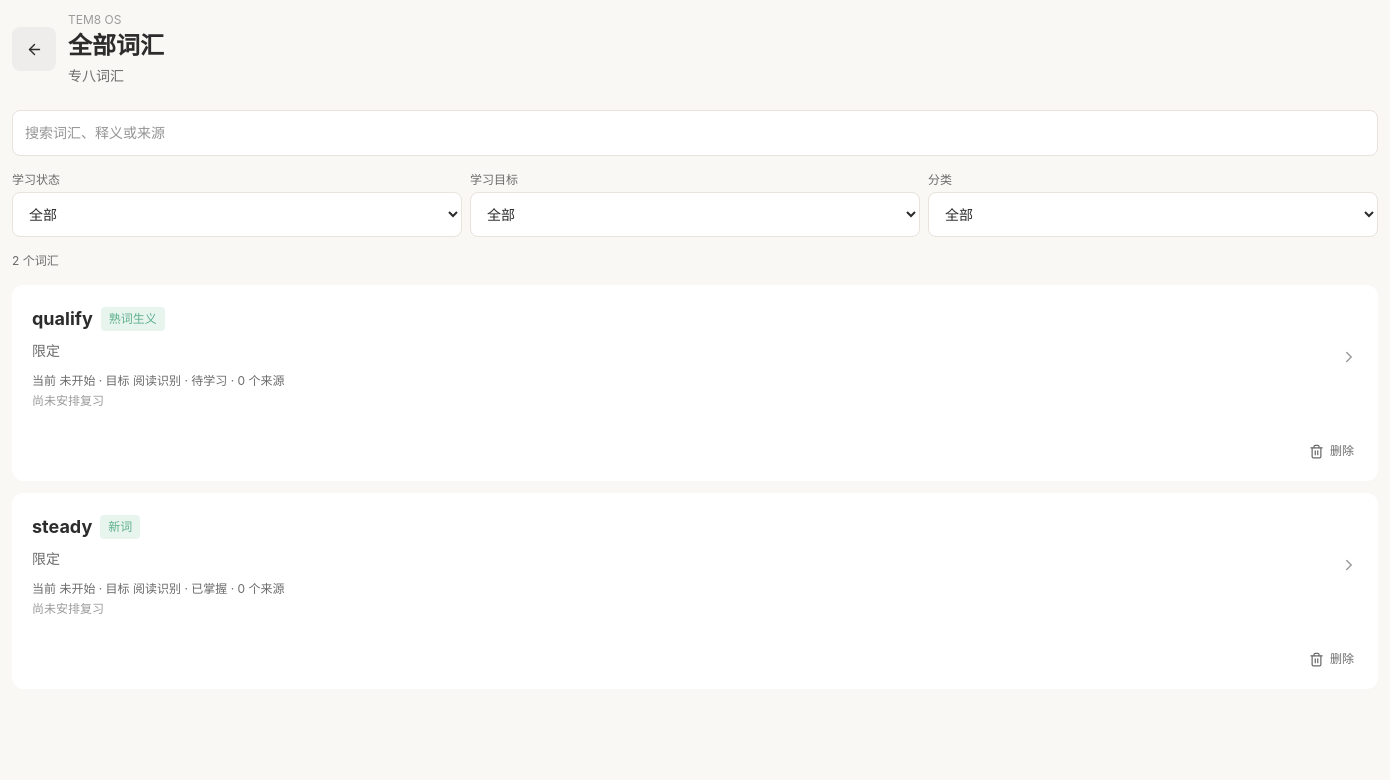
Scenario: TEM8 routing and progressive disclosure › filters status, type and archived words without enriching the list
Select "已掌握" in the dropdown labelled "学习状态": (237, 214) [12,192,462,237]
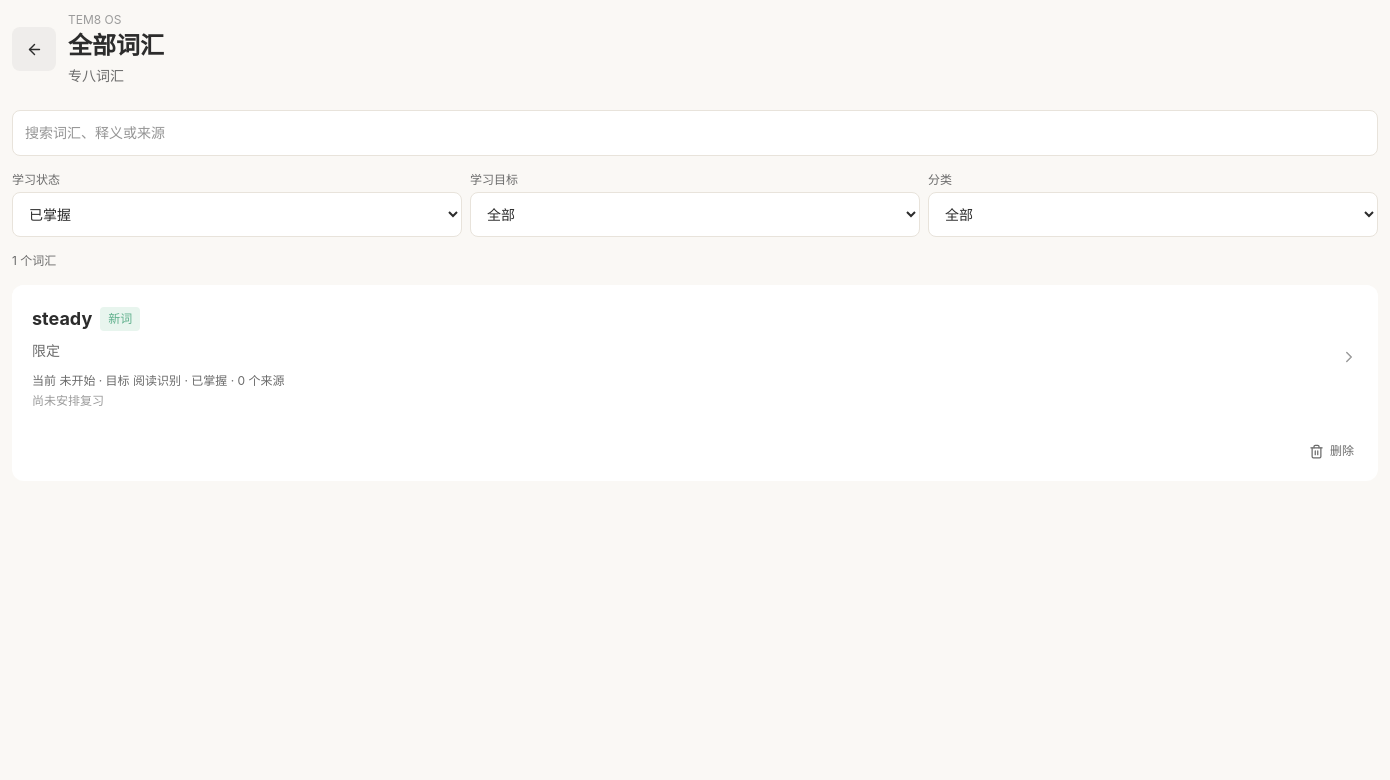
Expected: the link "steady 新词 限定 当前 未开始 · 目标 阅读识别 · 已掌握 · 0 个来源 尚未安排复习" is shown, [12,285,1378,429]
Result: the link "qualify" is gone
Select "已归档" in the dropdown labelled "学习状态": (237, 214) [12,192,462,237]
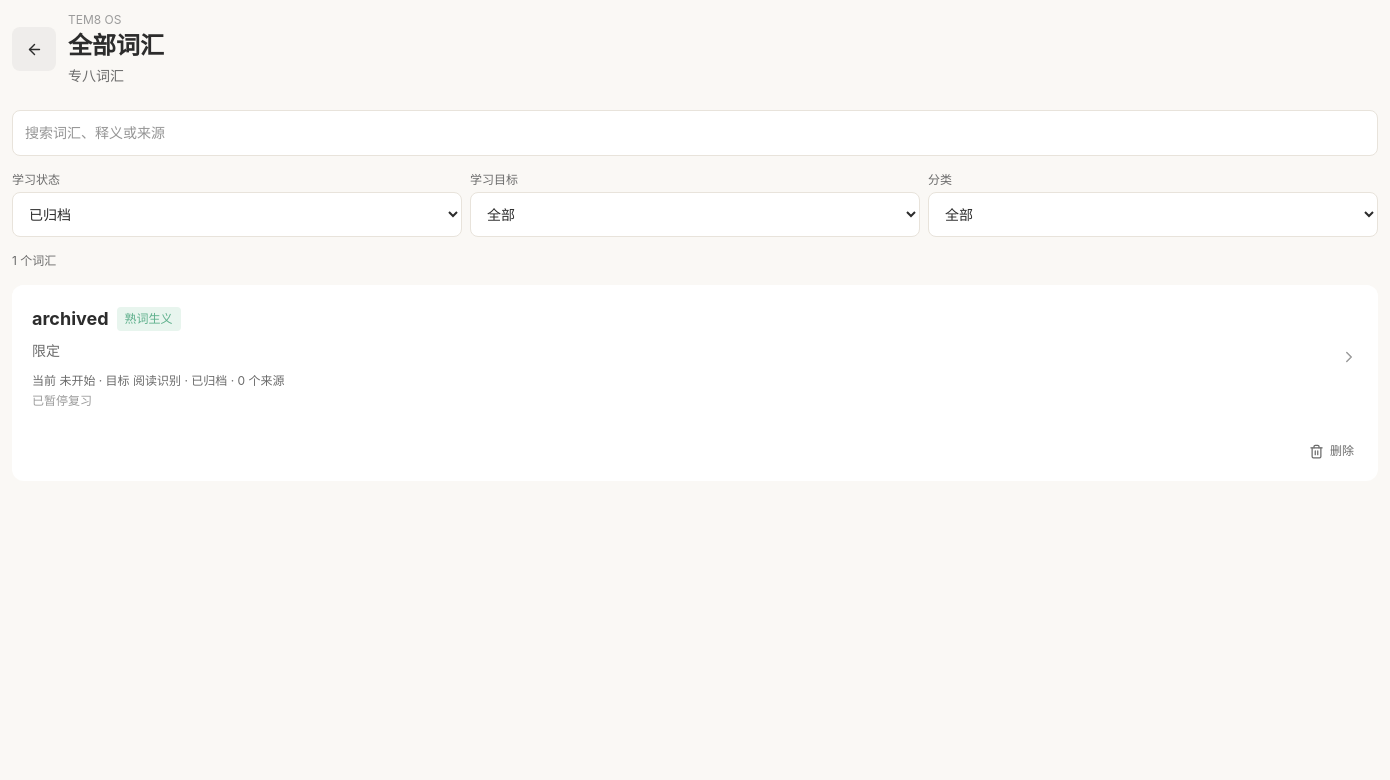
Result: the link "archived 熟词生义 限定 当前 未开始 · 目标 阅读识别 · 已归档 · 0 个来源 已暂停复习" is shown at [12,285,1378,429]
